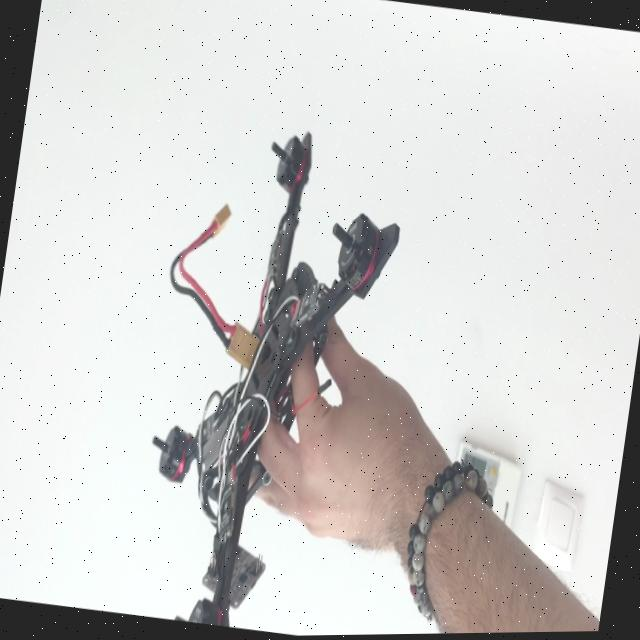drone: (101, 89, 419, 639)
